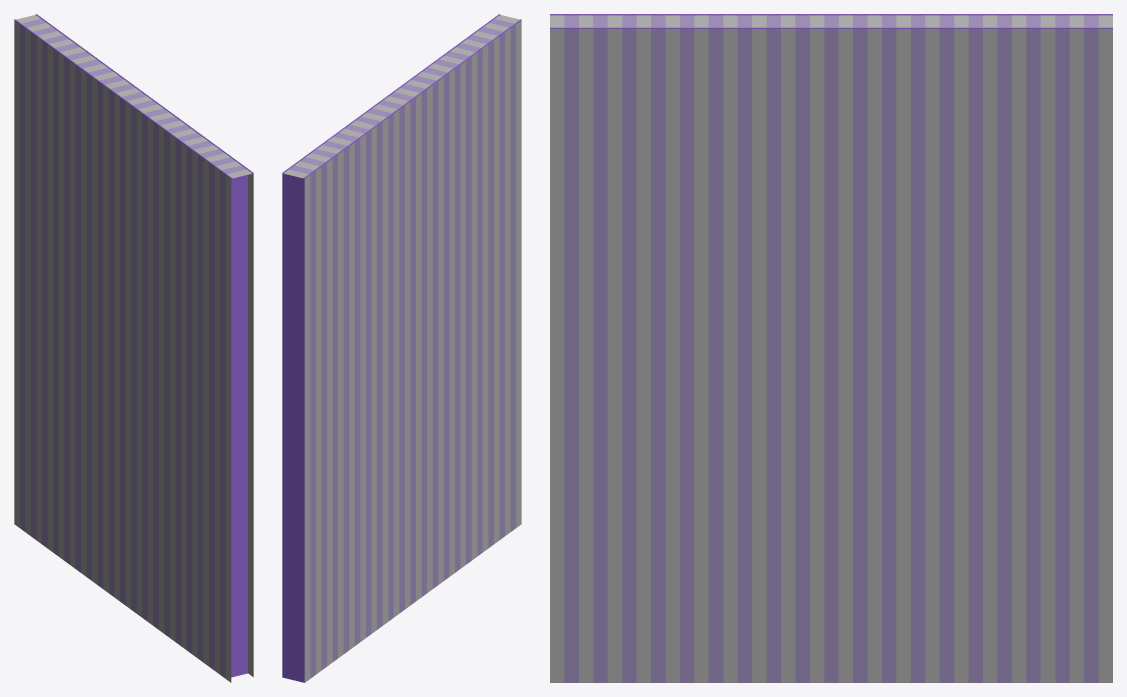
The model's file is GroundChip - Ground - FightPhasePattern1 (3).fbx.
3 renders of one model, left to right at view 1: azimuth 30°, elevation 25°; view 2: azimuth 150°, elevation 25°; view 3: azimuth 270°, elevation 25°, orthographic. The views are drawn at different scales.
Parts seen in each view (by area): view 1: GroundChip___Ground___FightPhasePattern1__3_; view 2: GroundChip___Ground___FightPhasePattern1__3_; view 3: GroundChip___Ground___FightPhasePattern1__3_.
Part boxes in pixels (x1=…): GroundChip___Ground___FightPhasePattern1__3_: x1=14, y1=14, x2=253, y2=682; GroundChip___Ground___FightPhasePattern1__3_: x1=282, y1=14, x2=521, y2=682; GroundChip___Ground___FightPhasePattern1__3_: x1=550, y1=14, x2=1112, y2=682.
Size of the model in its own units: 700 by 15015 by 11700.
